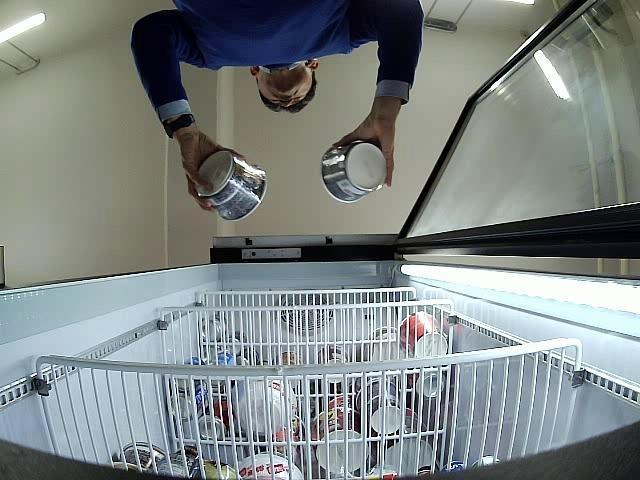07_buldak_L: (196, 148, 266, 221), (320, 139, 388, 203)
